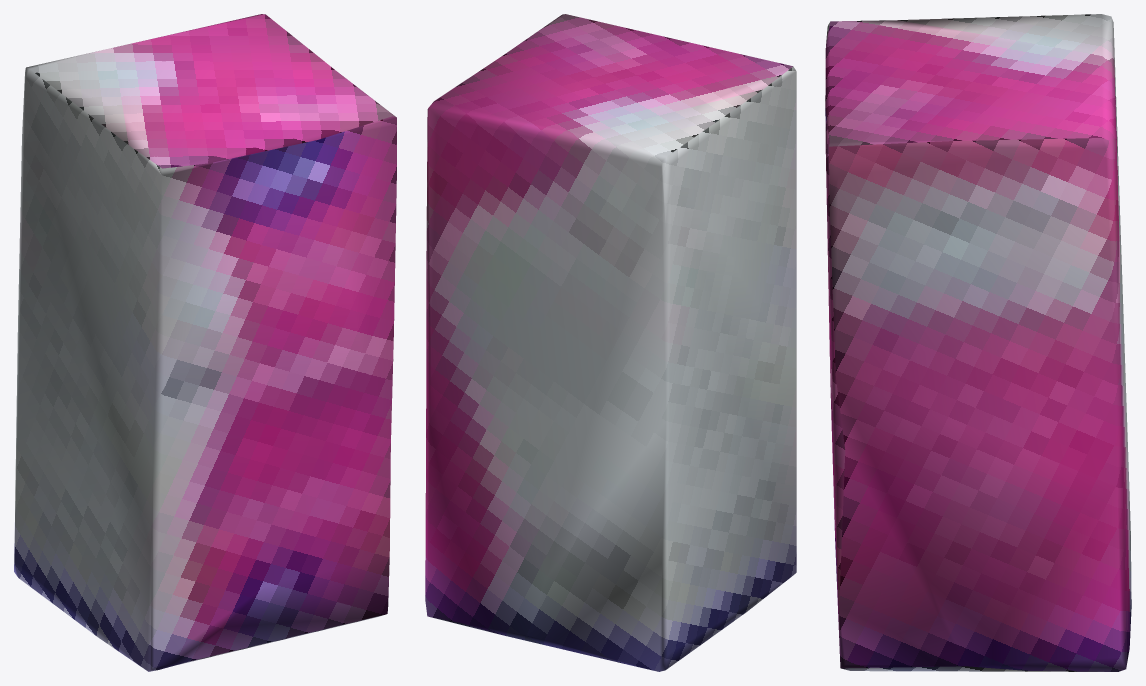
Rendered from FemDophilus-low.glb.
3 renders of one model, left to right at view 1: azimuth 30°, elevation 25°; view 2: azimuth 150°, elevation 25°; view 3: azimuth 270°, elevation 25°, orthographic. The views are drawn at different scales.
Parts seen in each view (by area): view 1: FemDophilus; view 2: FemDophilus; view 3: FemDophilus.
Boxes of the visible parts, bbox=[...] form: FemDophilus: bbox=[14, 14, 396, 671]; FemDophilus: bbox=[425, 14, 796, 671]; FemDophilus: bbox=[825, 14, 1131, 671].
Bounding box in the file's own units: 0.0575 × 0.1145 × 0.0587.
Materials: 1 (1 with a texture image).
